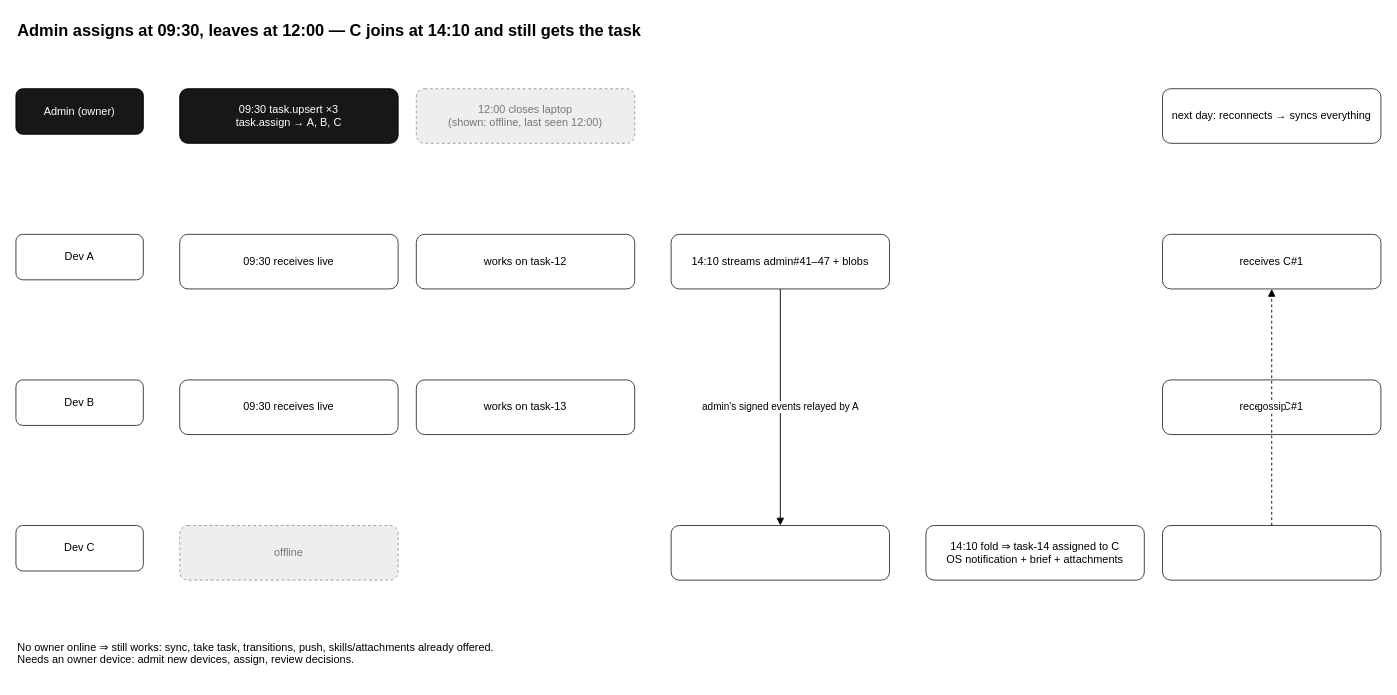
This 1397x695 diagram has some shape labels left out. Each missing label, with the box of its shape:
14:10 starts Baton → beacon finds A, B HELLO: missing admin#41–47: (670, 525, 890, 580)
14:12 task.transition active → gossiped: (1162, 525, 1381, 580)
